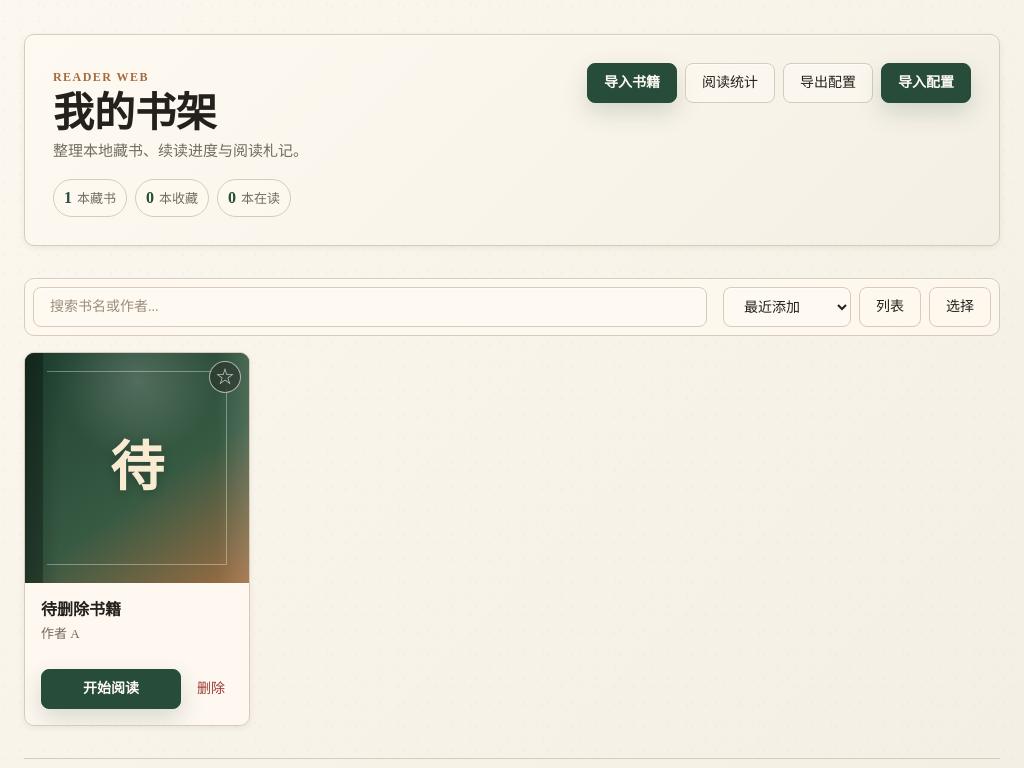
BookShelf › 删除书籍后会重新加载书架
Expected: the heading "待删除书籍" is shown, left=41, top=601, right=121, bottom=618
Click the button "删除" at (211, 689), box left=189, top=669, right=233, bottom=709
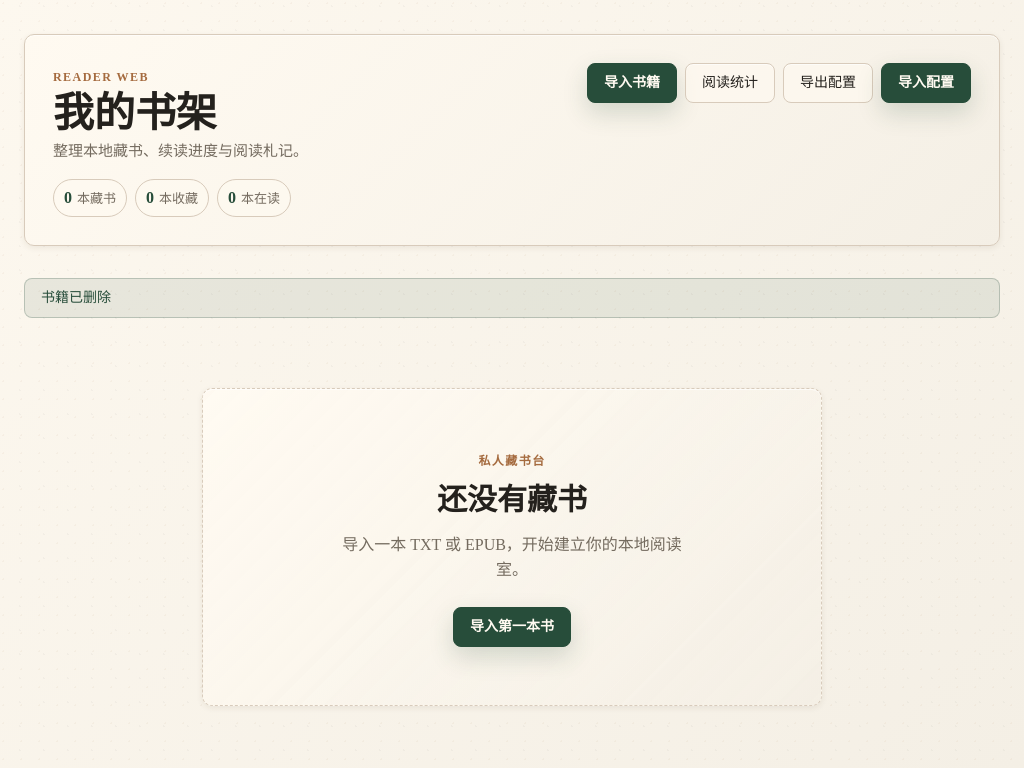
Expected: the heading "还没有藏书" is shown, left=437, top=483, right=587, bottom=516
